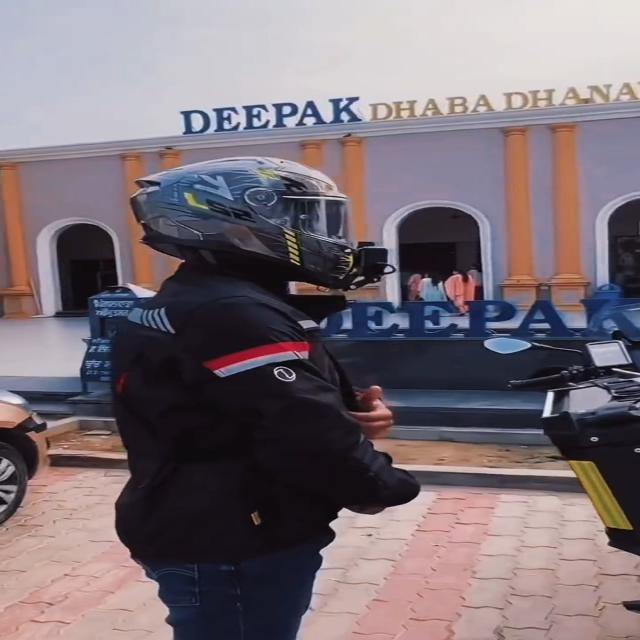Helmet_Wearer: (116, 152, 389, 289)
Jacket_Wearer: (112, 265, 417, 566)
Person: (112, 154, 420, 638)
